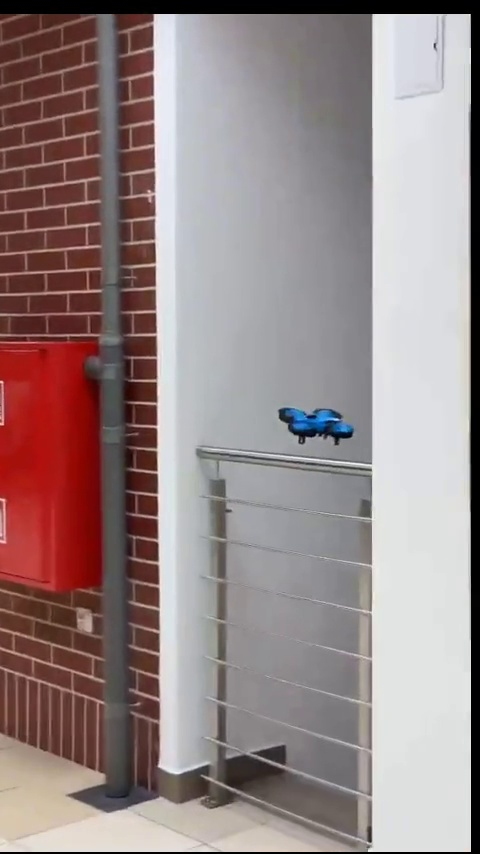drone: (279, 405, 357, 449)
